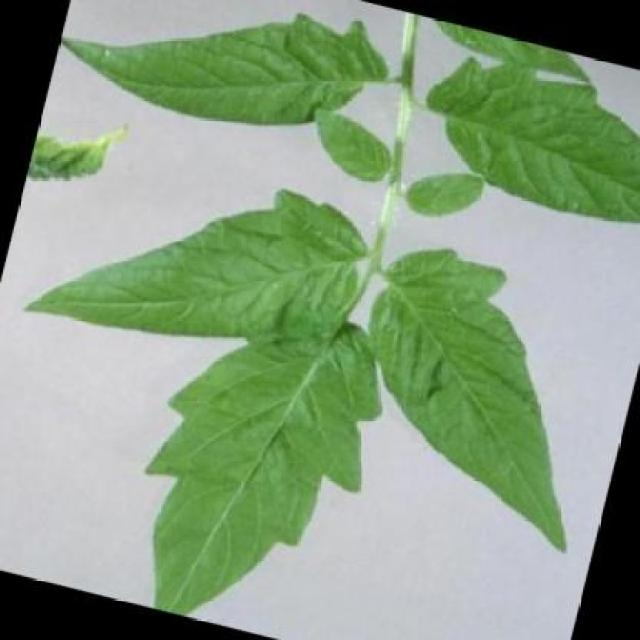Healthy Leaf: (326, 247, 632, 566), (26, 143, 381, 394), (108, 335, 397, 640), (51, 1, 410, 176), (401, 47, 639, 246)
